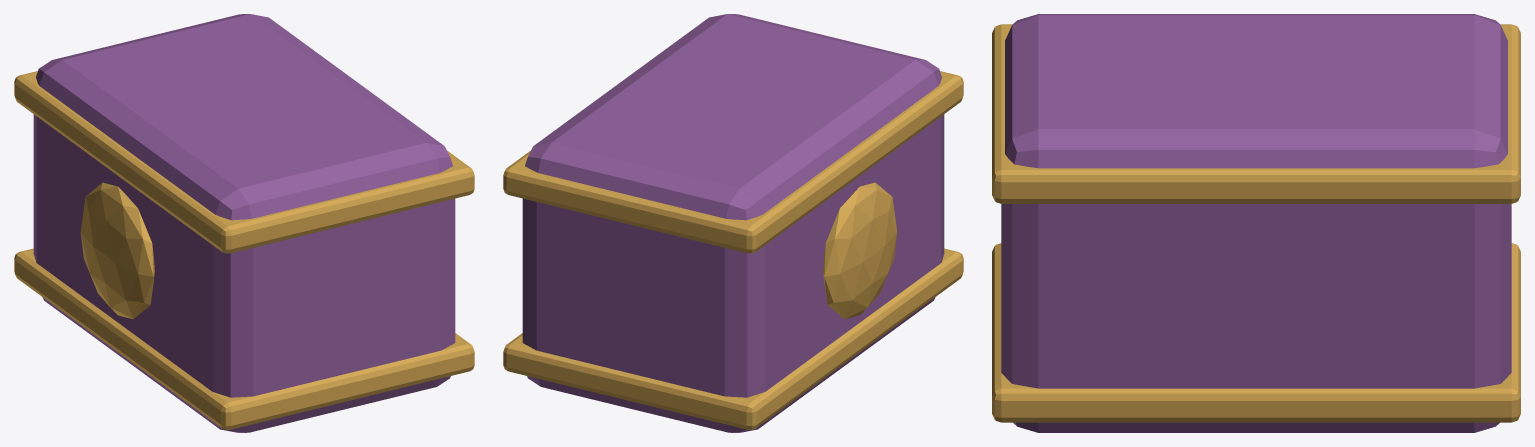
Rendered from module_relic_containment_v01.glb.
3 views of the same model, side by side, from view 1: azimuth 30°, elevation 25°; view 2: azimuth 150°, elevation 25°; view 3: azimuth 270°, elevation 25° (orthographic). The views are drawn at different scales.
Visible parts, largest first — view 1: GEO_RelicCase, GEO_RelicBand.001, GEO_RelicBand, GEO_RelicSeal; view 2: GEO_RelicCase, GEO_RelicBand.001, GEO_RelicBand, GEO_RelicSeal; view 3: GEO_RelicCase, GEO_RelicBand.001, GEO_RelicBand.
Part boxes in pixels (box(x1,y1,x2,y2)): GEO_RelicCase: box(33, 14, 455, 432); GEO_RelicBand.001: box(14, 71, 474, 253); GEO_RelicBand: box(14, 248, 474, 429); GEO_RelicSeal: box(80, 182, 154, 319); GEO_RelicCase: box(522, 14, 944, 432); GEO_RelicBand.001: box(503, 71, 963, 253); GEO_RelicBand: box(503, 248, 963, 429); GEO_RelicSeal: box(823, 182, 897, 319); GEO_RelicCase: box(1001, 14, 1511, 432); GEO_RelicBand.001: box(992, 24, 1520, 203); GEO_RelicBand: box(992, 243, 1520, 422).
Bounding box in the file's own units: 0.8228 × 0.72 × 1.14.
